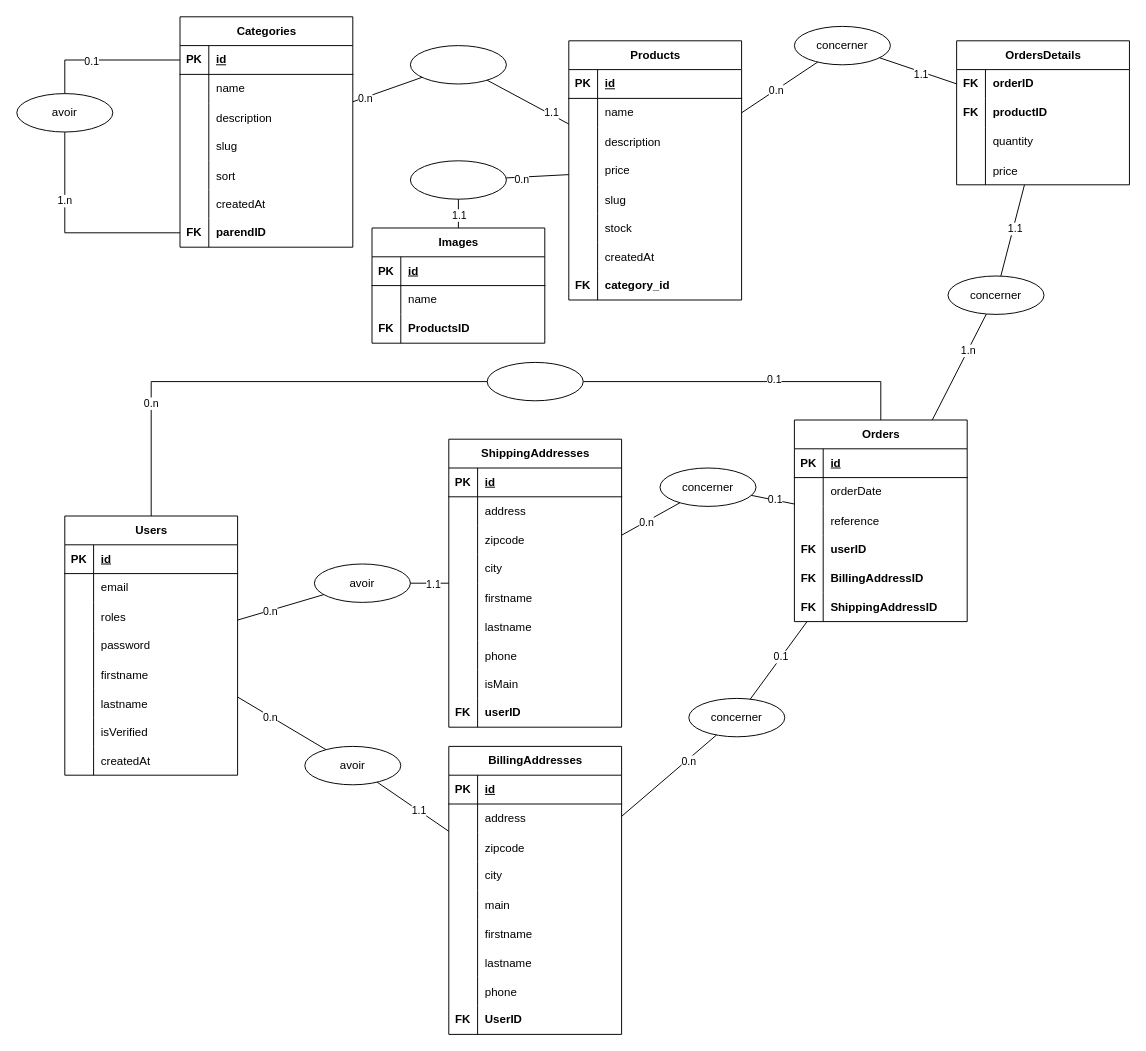
This 1146x1051 diagram has some shape labels left out. The centre of each missing label's shape, as x and y in pixels:
appartenir: the point at 457,64
passer: the point at 534,381
représenter: the point at 457,179
